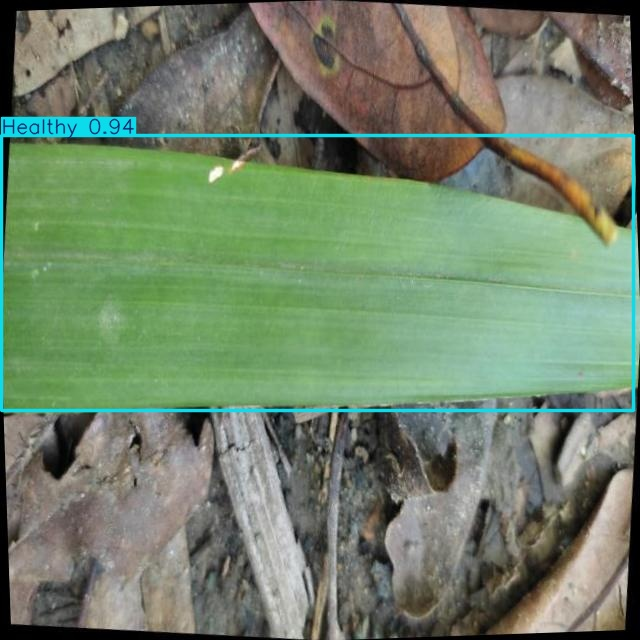Healthy: (2, 135, 633, 410)
